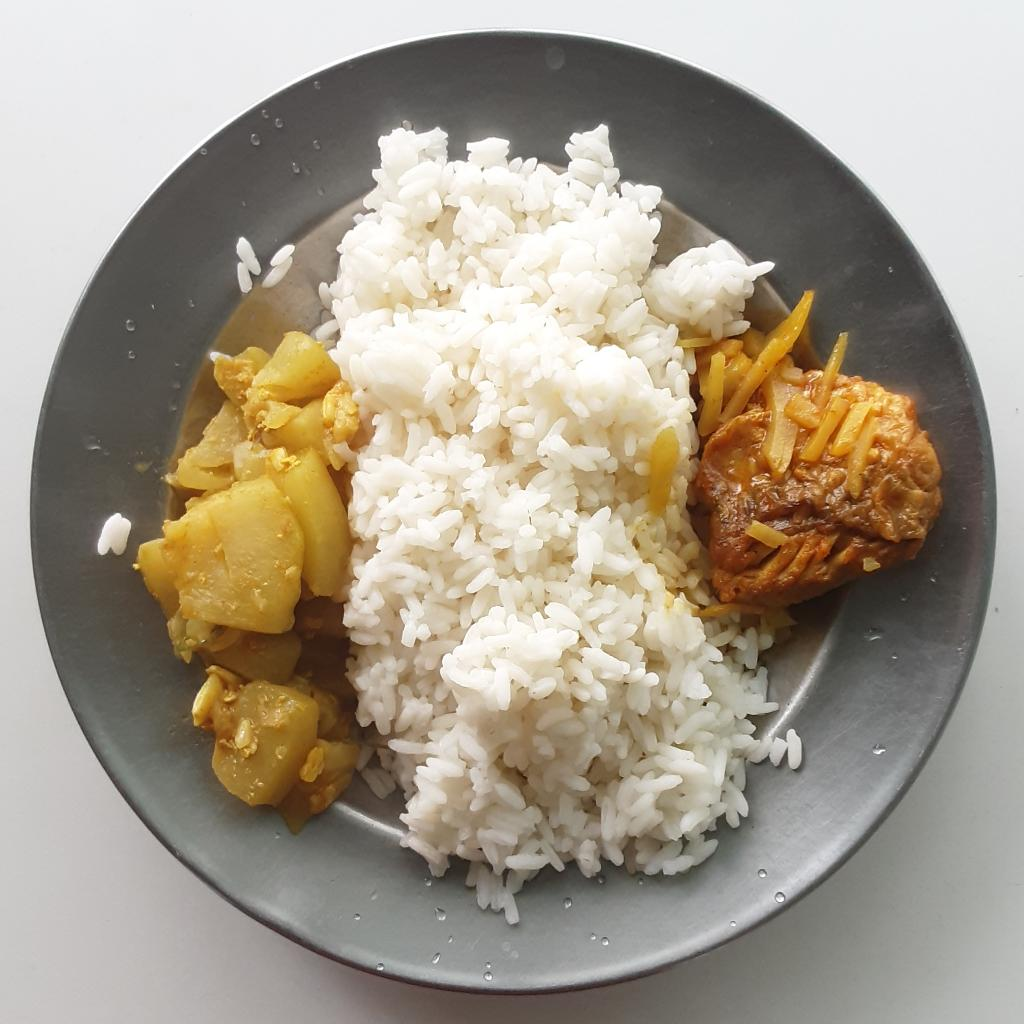fish: (679, 288, 947, 615)
kumra-vaji: (138, 329, 360, 840)
rice: (310, 117, 805, 930)
